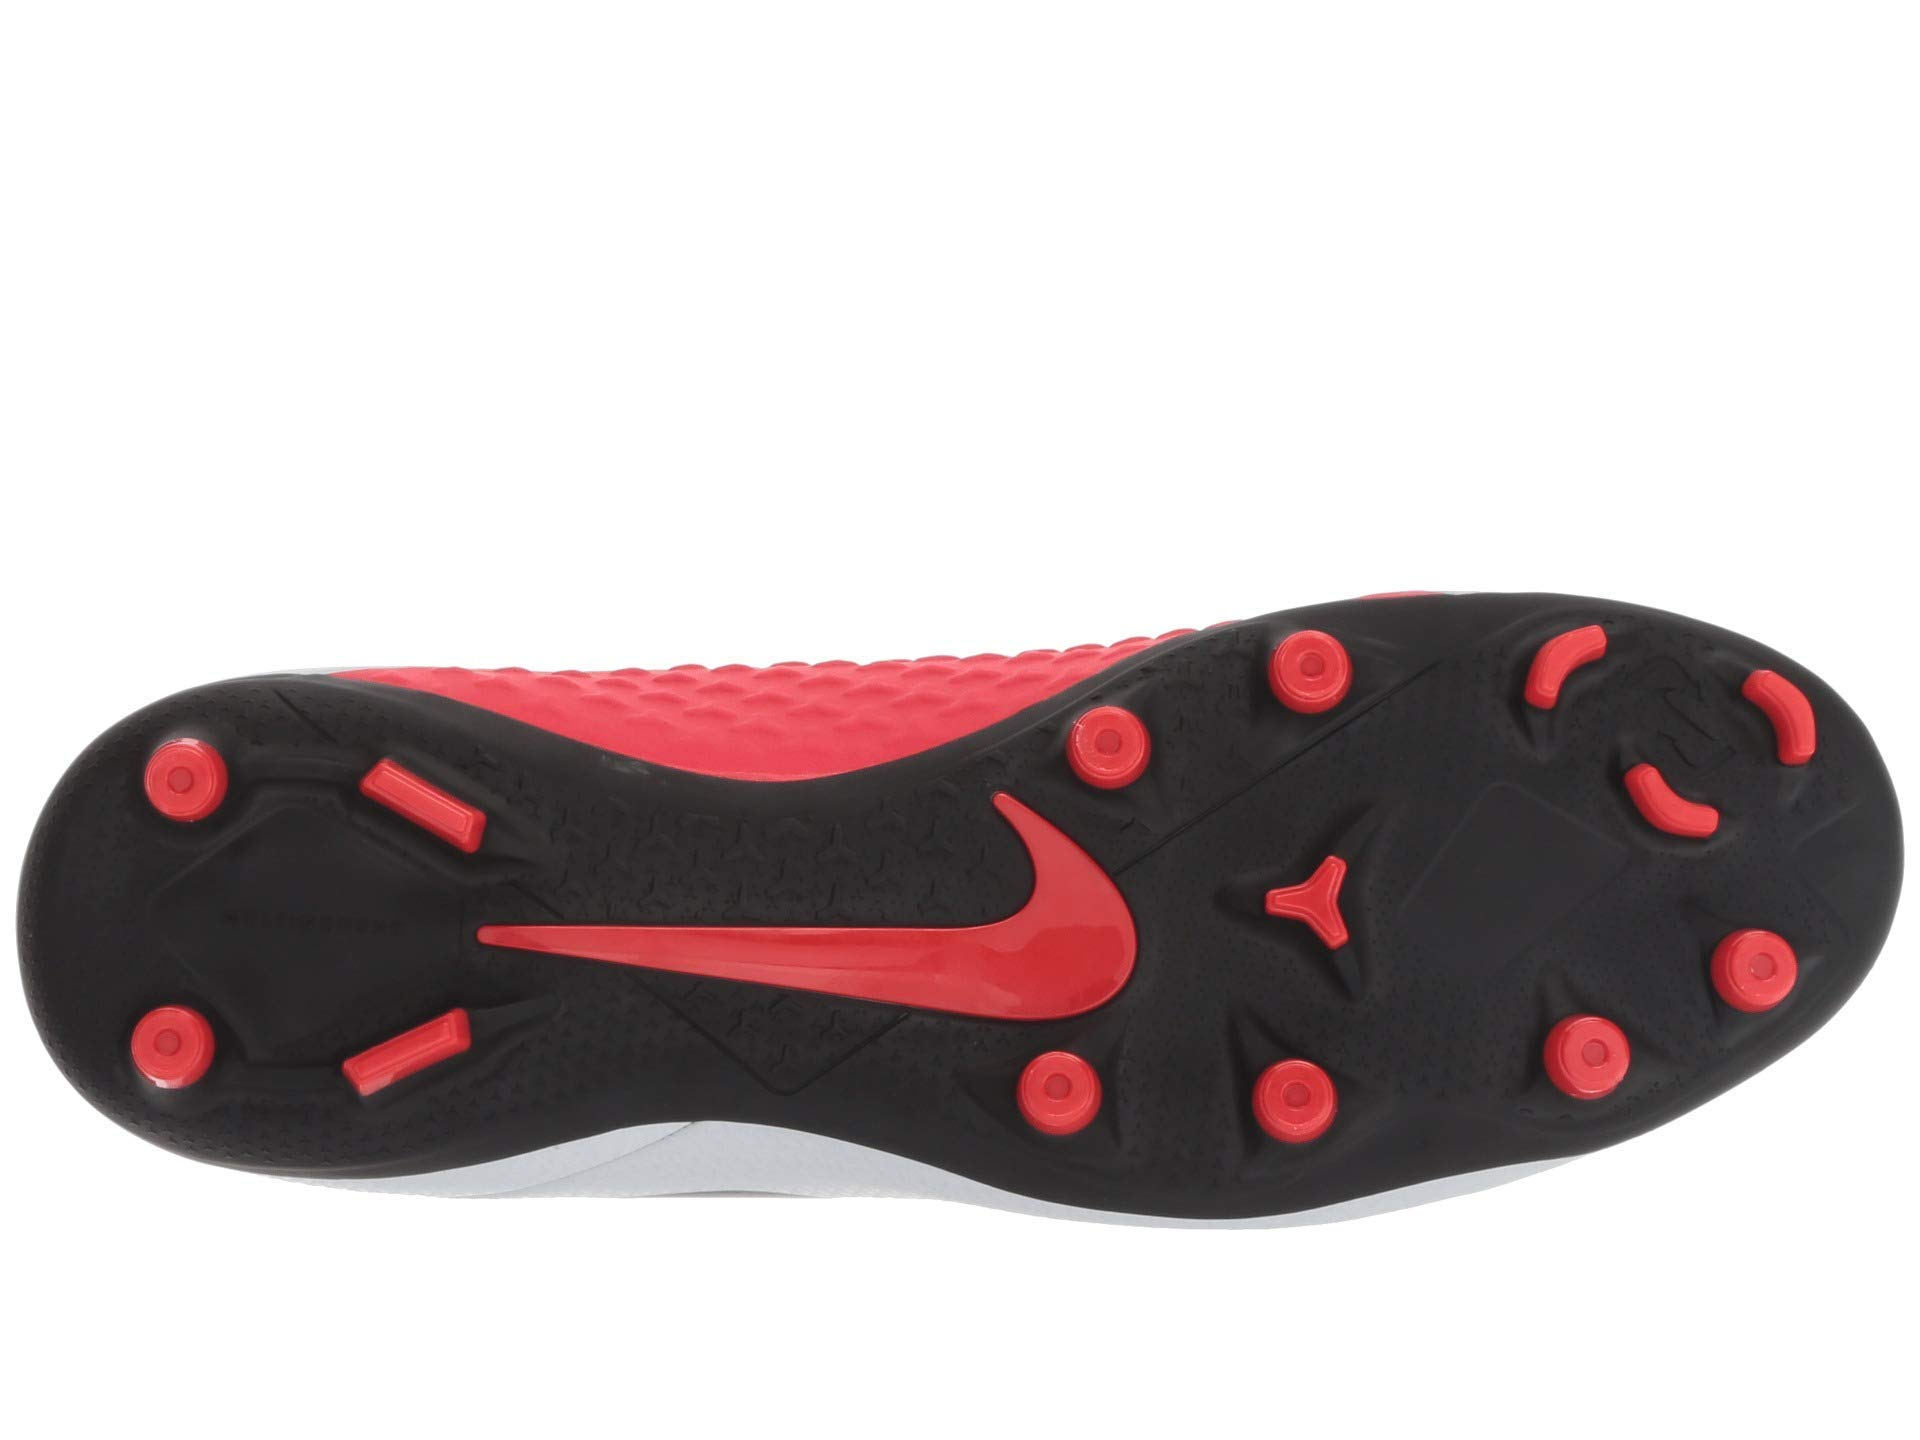circle: (116, 690, 526, 1175), (1479, 908, 1702, 1165)
quad: (116, 690, 526, 1175)
star: (1184, 791, 1448, 1029)
triangle: (1479, 908, 1702, 1165)
